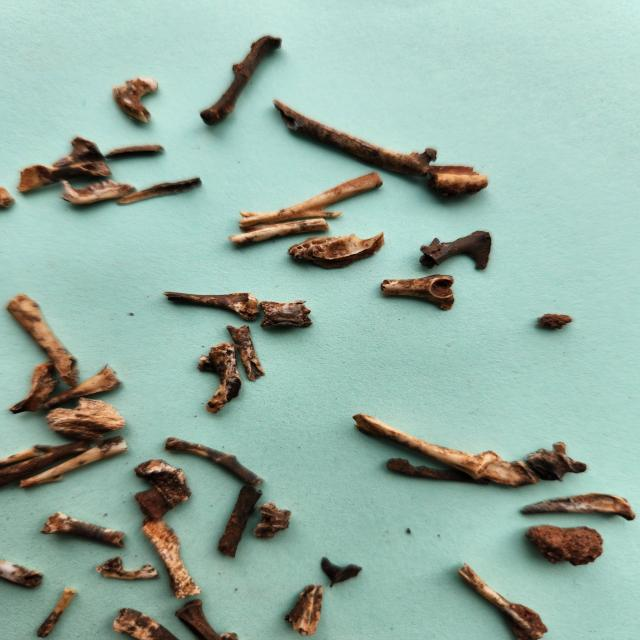fossil: (270, 96, 495, 205), (344, 409, 539, 491), (443, 557, 560, 640), (194, 34, 289, 132), (230, 170, 386, 228), (15, 430, 144, 492), (5, 294, 85, 392), (10, 135, 118, 201), (134, 514, 210, 602), (162, 432, 272, 488), (36, 394, 143, 444), (521, 520, 614, 575), (504, 486, 640, 523), (282, 227, 390, 273), (0, 438, 98, 488), (41, 360, 130, 413), (372, 270, 468, 319), (36, 508, 140, 553), (220, 212, 333, 253), (213, 481, 269, 562), (123, 457, 195, 519), (191, 340, 247, 418), (412, 226, 498, 273), (378, 452, 492, 487), (158, 284, 262, 322), (6, 356, 68, 418), (522, 436, 597, 486), (111, 173, 207, 210), (106, 71, 164, 130), (278, 580, 332, 639), (55, 175, 141, 211), (221, 325, 273, 384), (170, 599, 241, 640), (32, 586, 83, 639), (109, 603, 180, 640), (250, 498, 300, 544), (92, 555, 164, 586), (318, 551, 375, 590), (258, 299, 319, 332), (90, 141, 173, 165), (0, 555, 46, 590), (529, 310, 578, 336), (0, 185, 19, 210)
